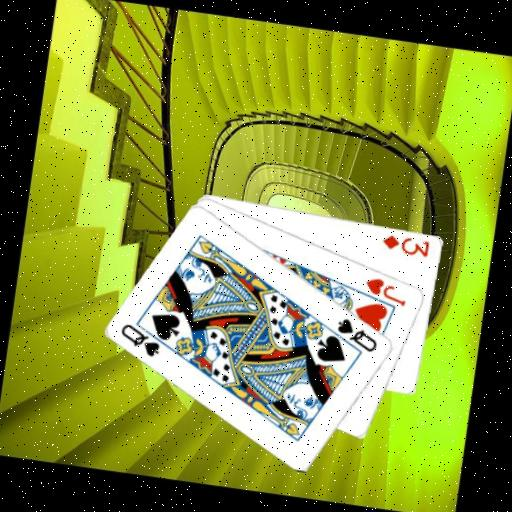3D: (378, 230, 433, 259)
JH: (360, 273, 411, 308)
QS: (332, 314, 383, 355), (115, 320, 165, 360)
